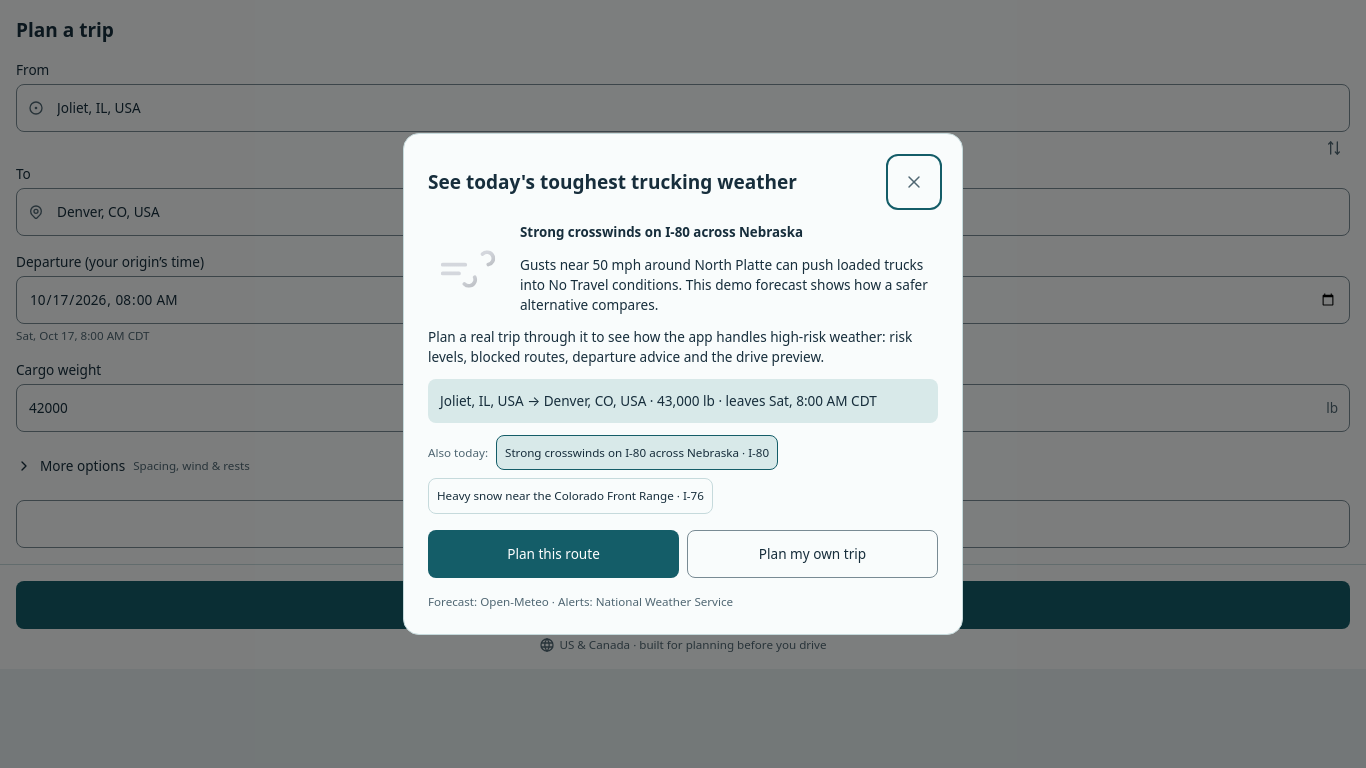
it: daily weather showcase › dismisses using outside without submitting
Click the dialog "See today's toughest trucking weather". click: coordinates (425, 153)
box: top-left (403, 133), bottom-right (963, 635)
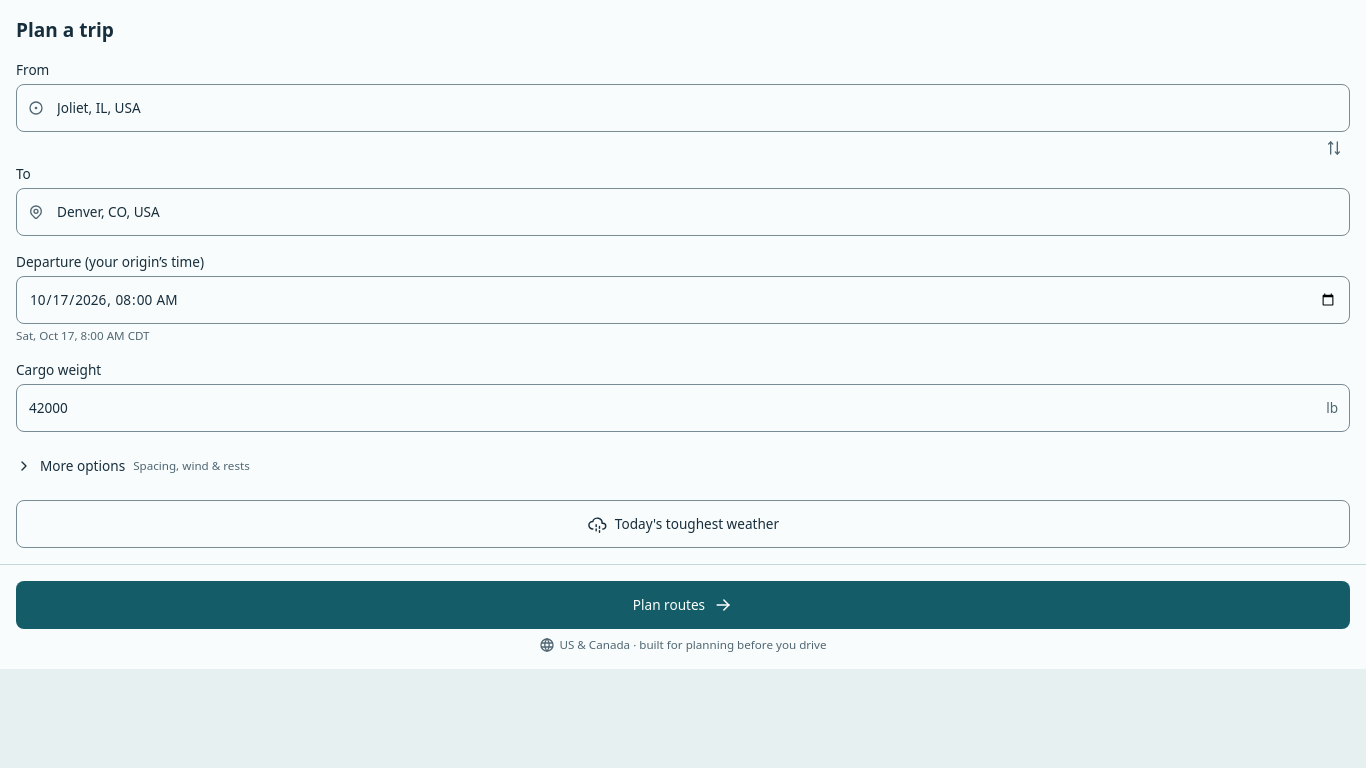
Result: the dialog is gone
